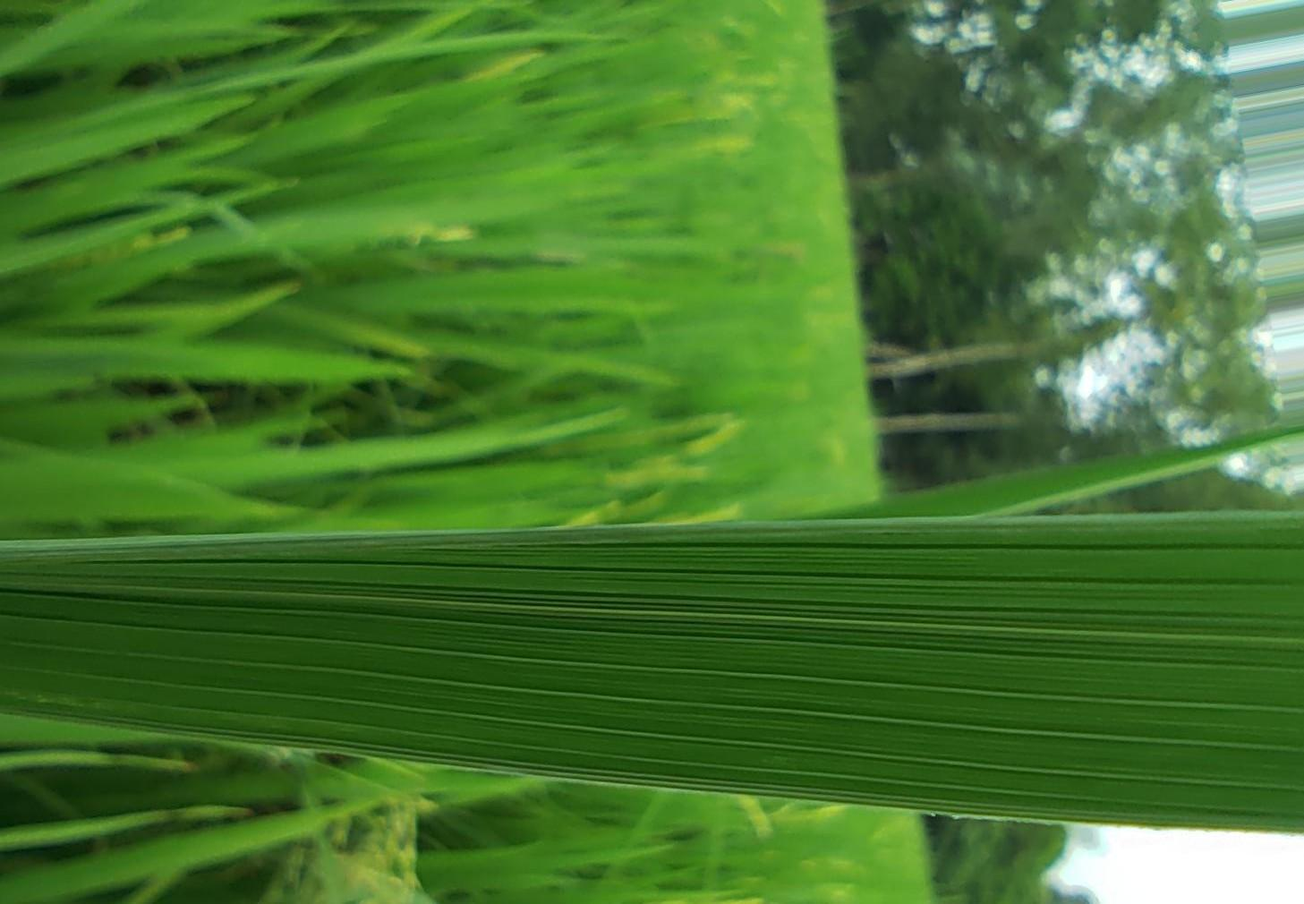Healthy: (0, 512, 1303, 830)
